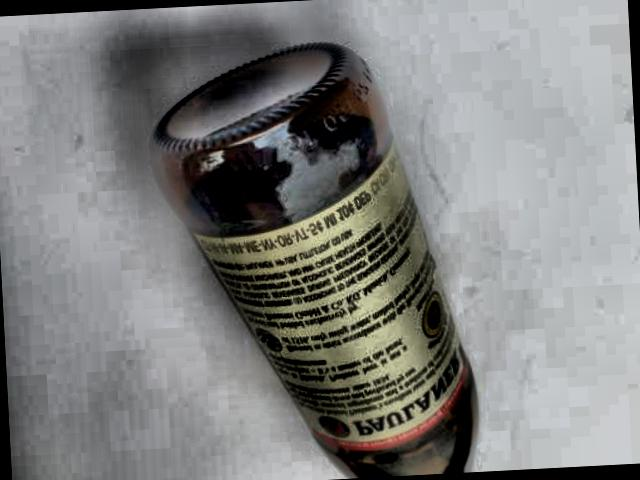Bottles: (133, 25, 500, 480)
